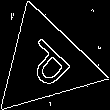P_SE: (14, 32, 77, 94)
